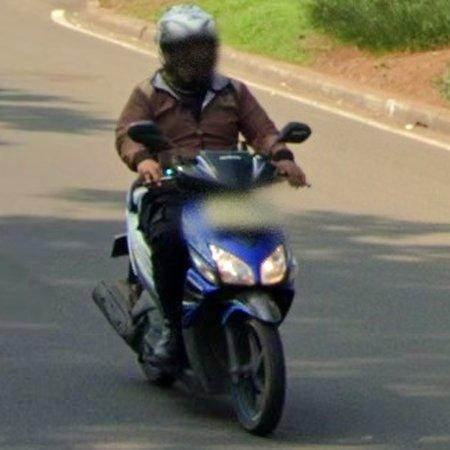motorcycles: (92, 150, 298, 436)
